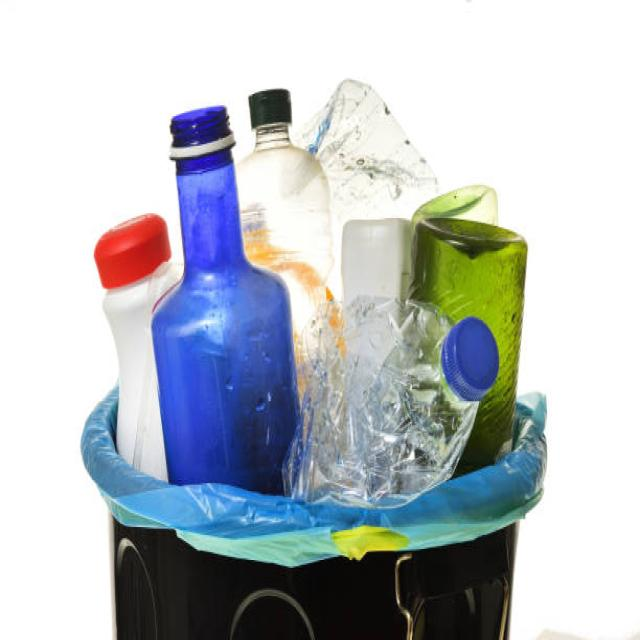plastic: (73, 97, 544, 447)
